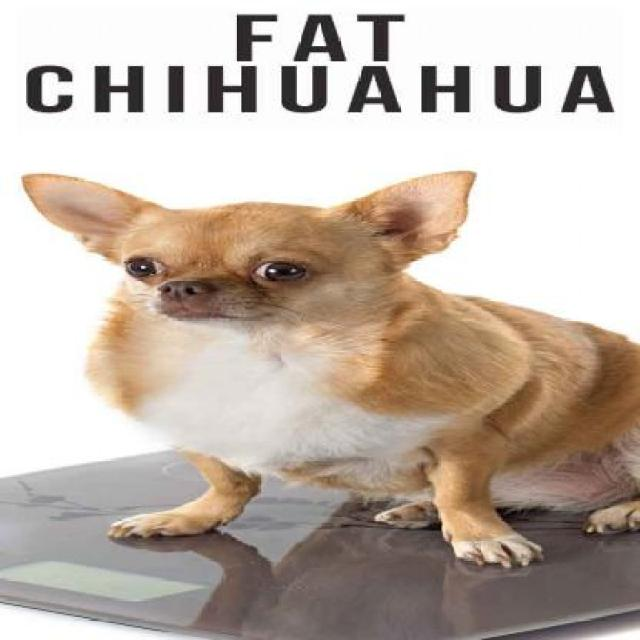Dog: (16, 168, 638, 572)
